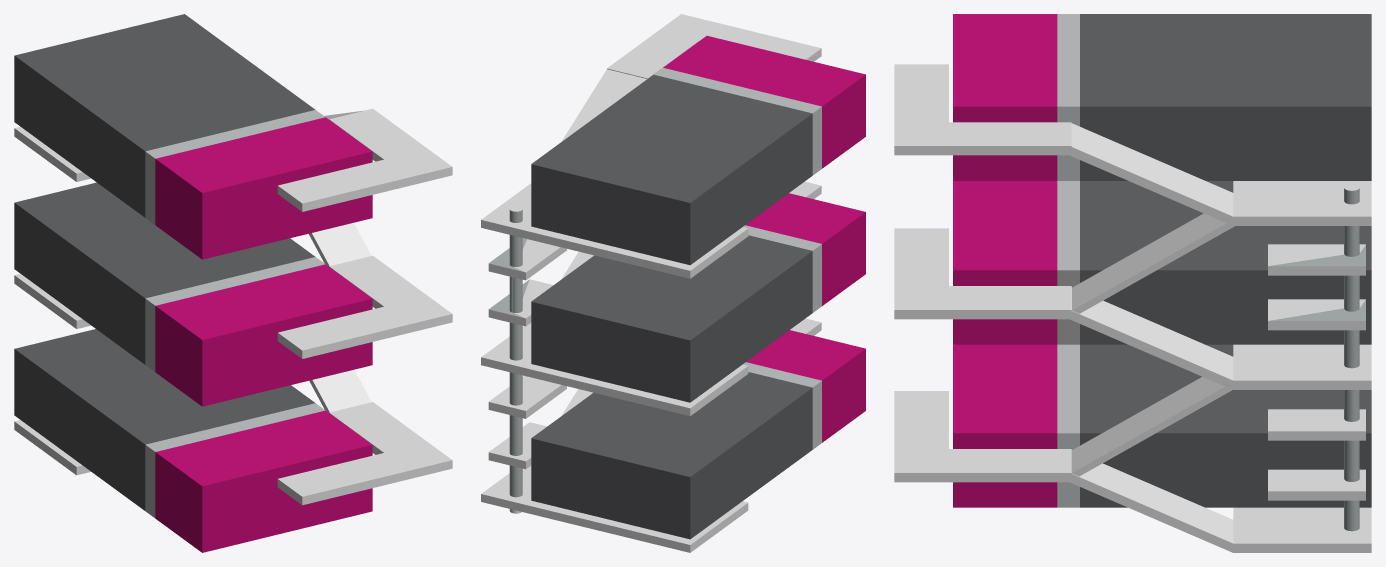
The model's file is bunk beds.fbx.
3 renders of one model, left to right at view 1: azimuth 30°, elevation 25°; view 2: azimuth 150°, elevation 25°; view 3: azimuth 270°, elevation 25°, orthographic. The views are drawn at different scales.
Visible parts, largest first — view 1: pCube1 (×3), bed1_pCube5; view 2: pCube1 (×3), bed1_pCube5; view 3: pCube1 (×3), bed1_pCube5.
Part boxes in pixels (bbox=[...]): pCube1 (×3): bbox=[14, 14, 372, 552]; bed1_pCube5: bbox=[14, 108, 452, 505]; pCube1 (×3): bbox=[531, 35, 865, 539]; bed1_pCube5: bbox=[481, 14, 821, 552]; pCube1 (×3): bbox=[953, 14, 1371, 507]; bed1_pCube5: bbox=[894, 64, 1371, 552].
Bounding box in the file's own units: 2.06 × 3.38 × 3.42.
